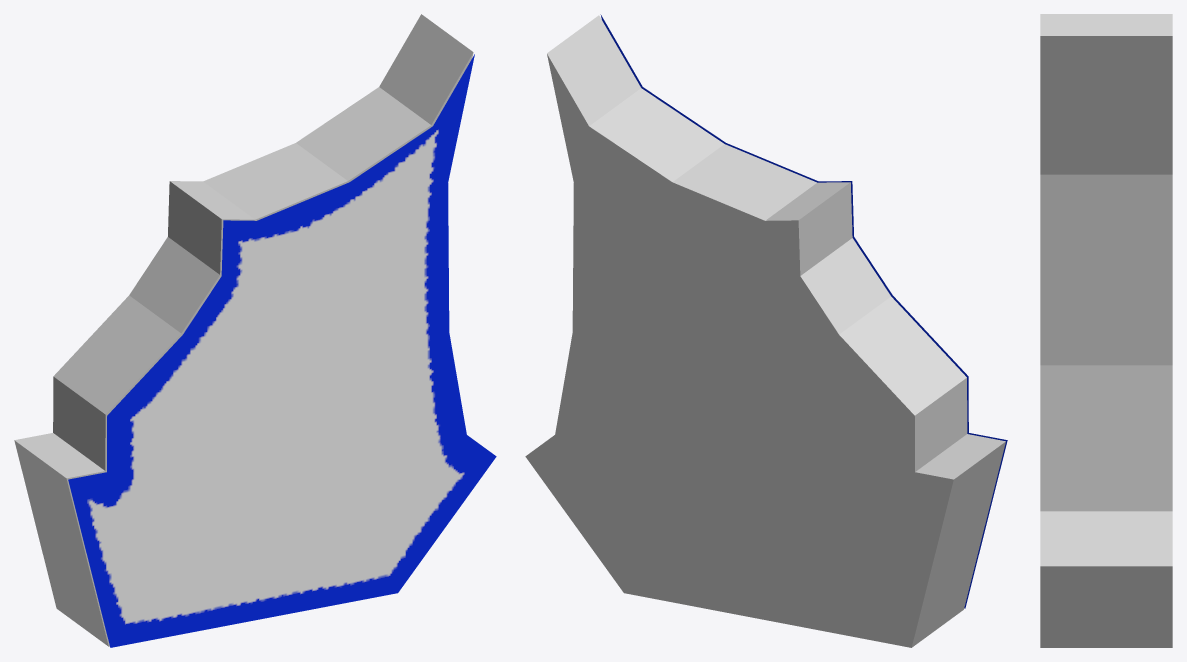
The picture shows the model from 3 angles, left to right: view 1: azimuth 30°, elevation 25°; view 2: azimuth 150°, elevation 25°; view 3: azimuth 270°, elevation 25°; orthographic projection. The views are drawn at different scales.
Visible parts, largest first — view 1: In8_1, In8_0; view 2: In8_0, In8_1; view 3: In8_0.
Boxes of the visible parts, box(x1,y1,x2,y2) form: In8_1: box(68, 54, 496, 647); In8_0: box(14, 14, 476, 646); In8_0: box(525, 15, 1005, 647); In8_1: box(600, 14, 1007, 608); In8_0: box(1040, 14, 1172, 647).
Size of the model in its own units: 2.37 by 2.75 by 0.515.
2 materials, 1 textured.
